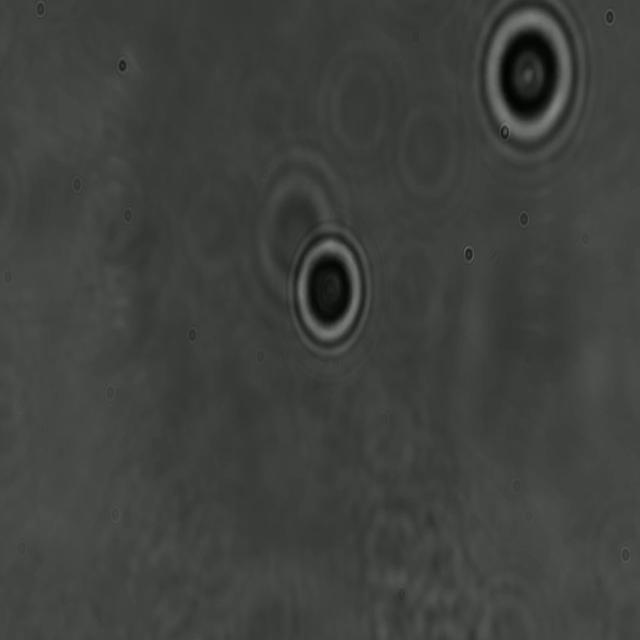DCELL: (281, 219, 379, 362)
LCELL: (470, 0, 587, 159)
